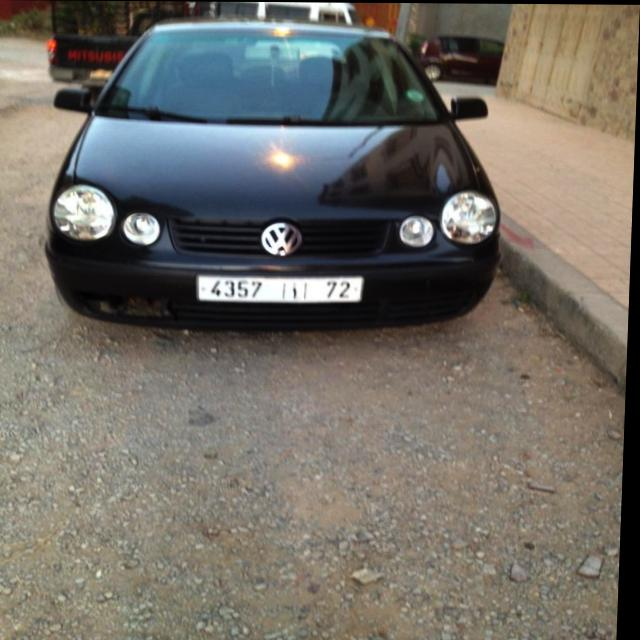License-Plate: (199, 274, 367, 303)
